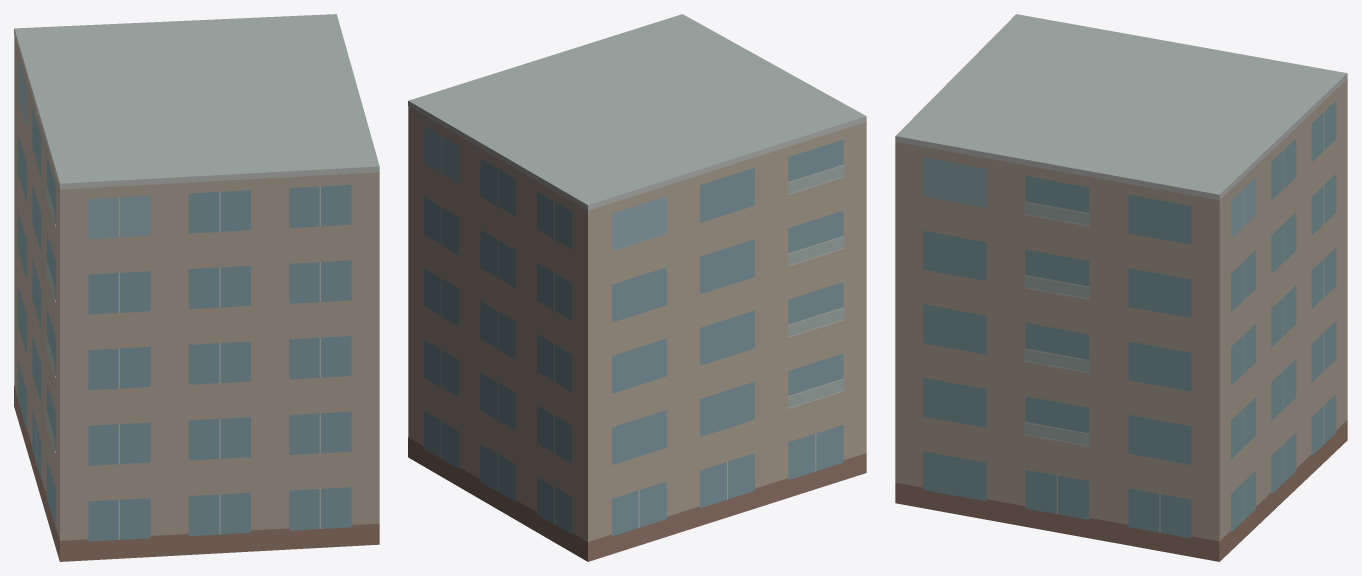
File: survey-upis-32888614.glb
The picture shows the model from 3 angles, left to right: view 1: azimuth 30°, elevation 25°; view 2: azimuth 150°, elevation 25°; view 3: azimuth 270°, elevation 25°; orthographic projection. The views are drawn at different scales.
Parts seen in each view (by area): view 1: survey-upis-32888614.tmp; view 2: survey-upis-32888614.tmp; view 3: survey-upis-32888614.tmp.
Boxes of the visible parts, bbox=[...] form: survey-upis-32888614.tmp: bbox=[14, 14, 379, 561]; survey-upis-32888614.tmp: bbox=[408, 14, 866, 561]; survey-upis-32888614.tmp: bbox=[895, 14, 1347, 561].
Bounding box in the file's own units: 16.79 × 15.9 × 17.76.
